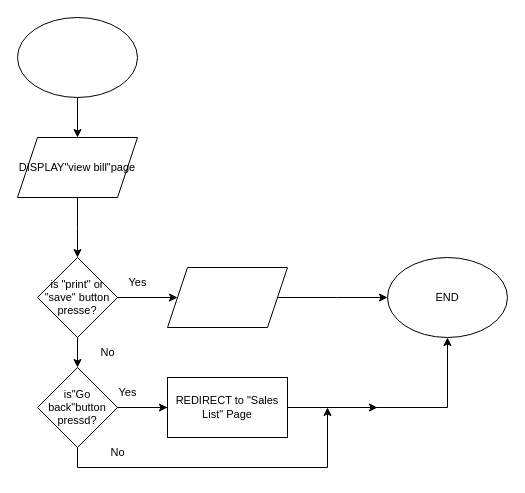
Image size: 525x493. Some labels were removed from this diagram. Each missing label, with the centre of its shape:
"PRINT or SAVE the bill" belongs at point 227,297.
"START" belongs at point 77,57.
